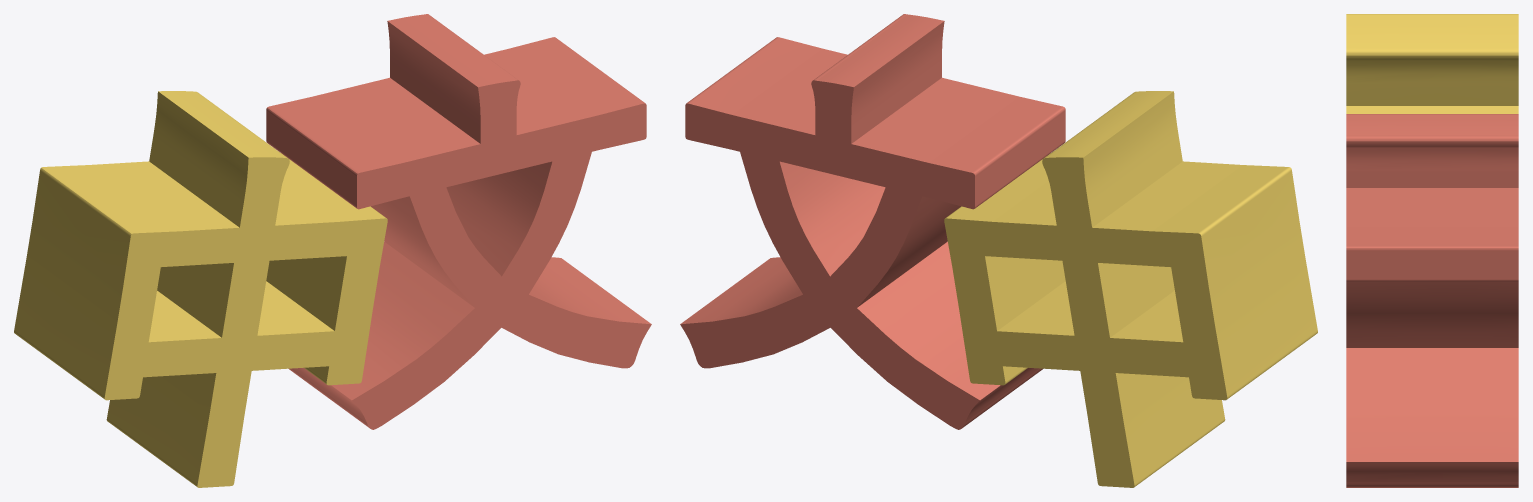
Rendered from about-chinese.glb.
3 renders of one model, left to right at view 1: azimuth 30°, elevation 25°; view 2: azimuth 150°, elevation 25°; view 3: azimuth 270°, elevation 25°, orthographic. The views are drawn at different scales.
Visible parts, largest first — view 1: Body2, Body1; view 2: Body2, Body1; view 3: Body1, Body2.
Boxes of the visible parts, x1,y1,x2,y2 form: Body2: (14,91,387,487); Body1: (266,14,651,429); Body2: (944,91,1317,487); Body1: (680,14,1065,429); Body1: (1346,114,1518,487); Body2: (1346,14,1518,113).
Bounding box in the file's own units: 1.36 × 0.8062 × 0.3913.
